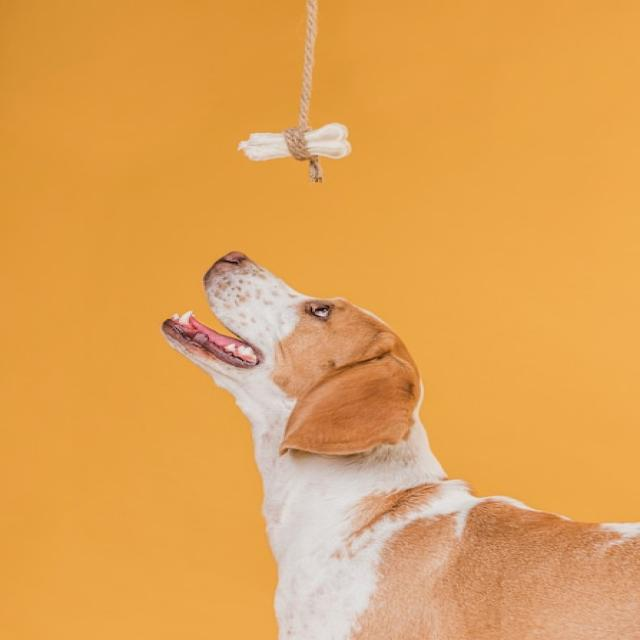Dog: (159, 250, 640, 640)
